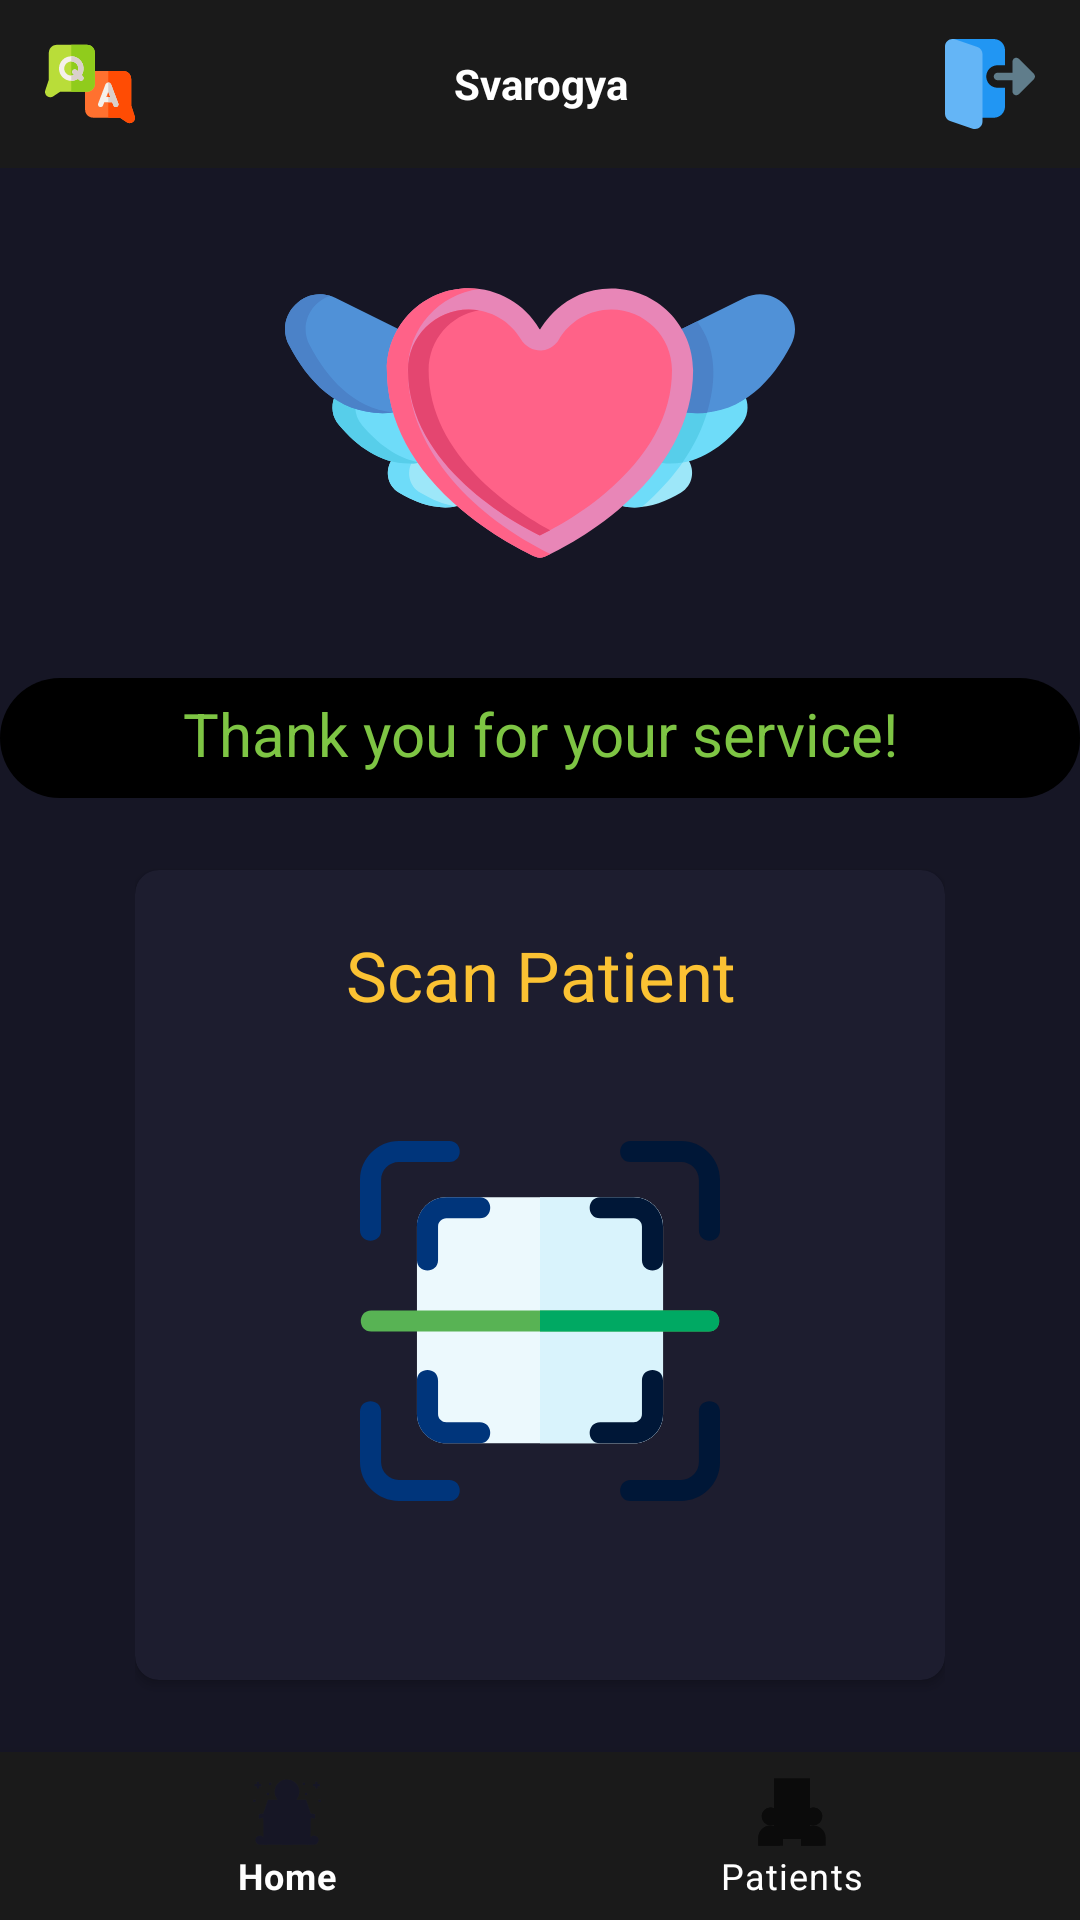

Icon click points for this 1080px×1920px phone screenshot, format (x,y):
qr code: (540,1321)
question: (90,84)
